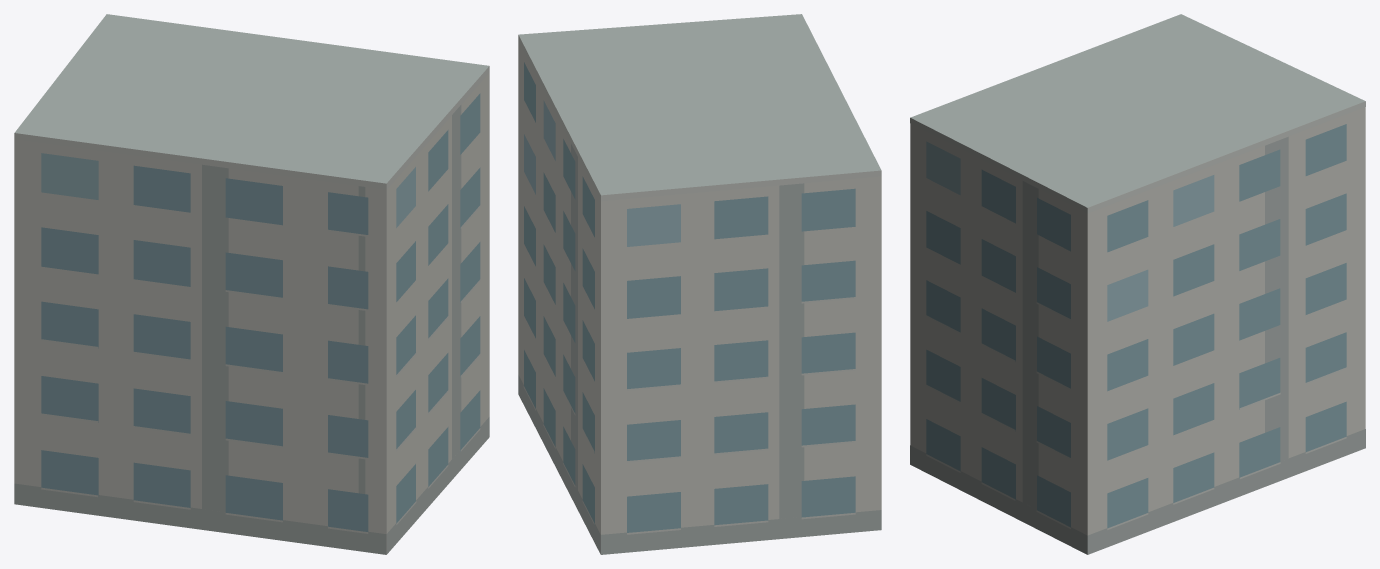
The model's file is survey-upis-32833413.glb.
3 renders of one model, left to right at view 1: azimuth 30°, elevation 25°; view 2: azimuth 150°, elevation 25°; view 3: azimuth 270°, elevation 25°, orthographic. The views are drawn at different scales.
Visible parts, largest first — view 1: survey-upis-32833413.tmp; view 2: survey-upis-32833413.tmp; view 3: survey-upis-32833413.tmp.
Boxes of the visible parts, x1,y1,x2,y2 form: survey-upis-32833413.tmp: (14, 14, 489, 554); survey-upis-32833413.tmp: (518, 14, 881, 554); survey-upis-32833413.tmp: (910, 14, 1365, 554).
Size of the model in its own units: 17.38 by 14.5 by 17.26.
